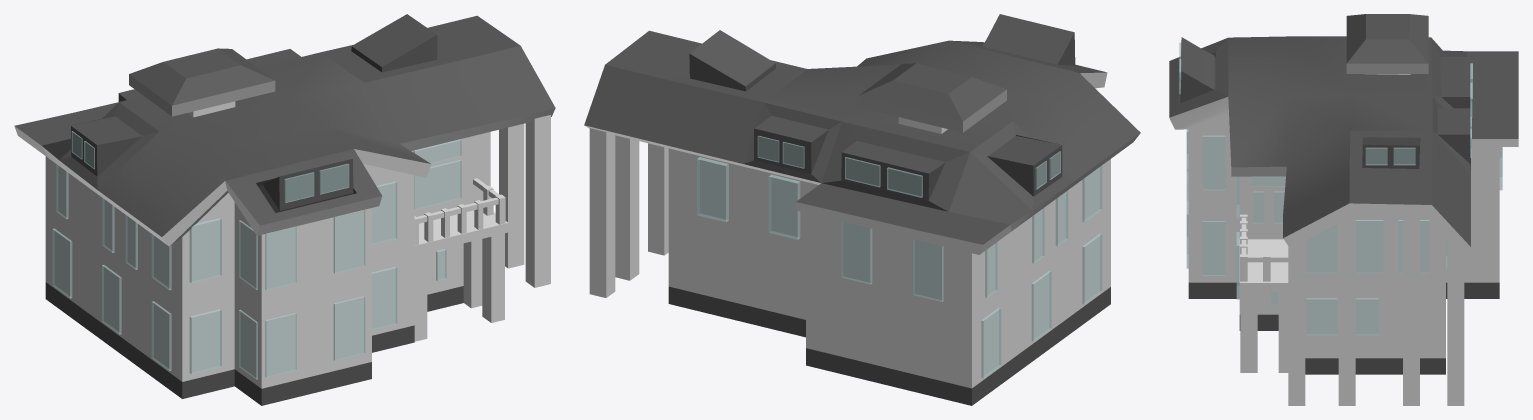
File: WHITE HOUSE.fbx
3 views of the same model, side by side, from view 1: azimuth 30°, elevation 25°; view 2: azimuth 150°, elevation 25°; view 3: azimuth 270°, elevation 25° (orthographic). The views are drawn at different scales.
Parts seen in each view (by area): view 1: pCube102; view 2: pCube102; view 3: pCube102.
Part boxes in pixels (bbox=[...]): pCube102: bbox=[14, 14, 555, 405]; pCube102: bbox=[584, 14, 1140, 405]; pCube102: bbox=[1169, 14, 1518, 405].
Size of the model in its own units: 2040 by 1179 by 1544.
